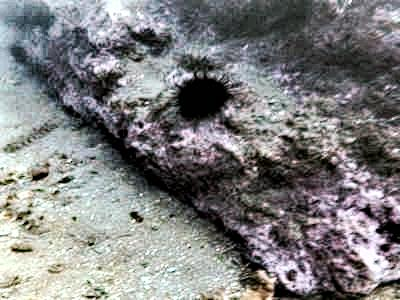urchin: (175, 66, 233, 120)
